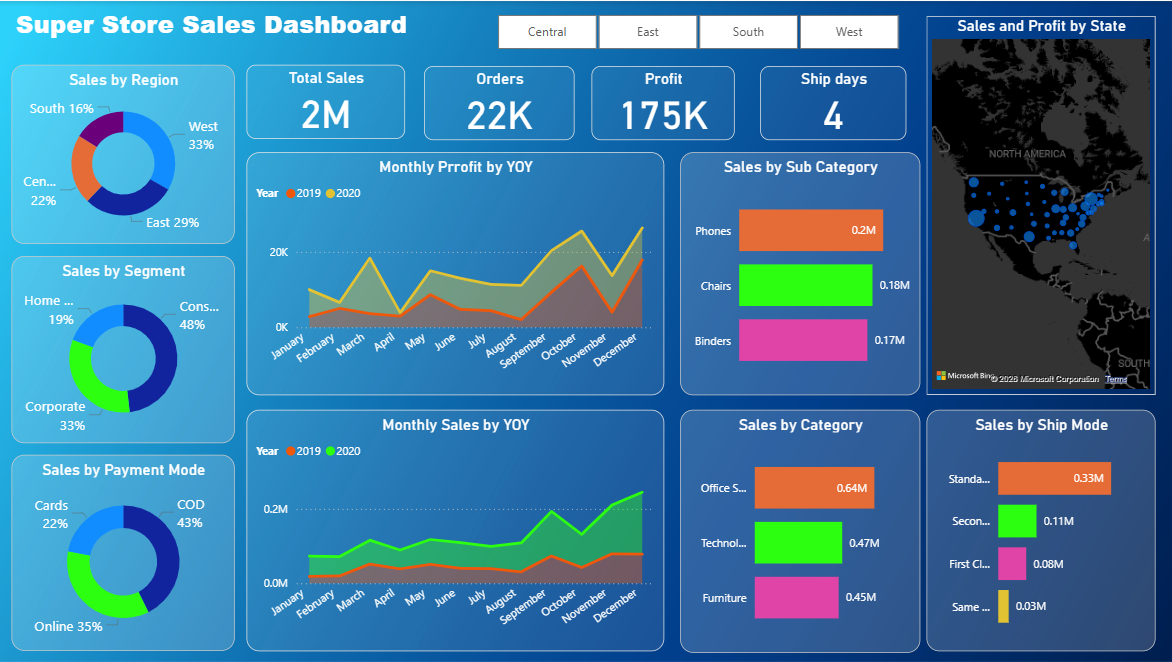

The dashboard page shown, as its layout file describes it:
{"tool":"powerbi","page":{"name":"Page 1","canvas":[1280,720],"ordinal":0},"visuals":[{"type":"clusteredBarChart","title":" Sales by Category","fields":{"Category":["SuperStore_Sales_Dataset.Category"],"Y":["Sum(SuperStore_Sales_Dataset.Sales)"]},"box":[742.9,445.4,261.3,264.6],"z":0},{"type":"clusteredBarChart","title":" Sales by Sub Category","fields":{"Category":["SuperStore_Sales_Dataset.Sub-Category"],"Y":["Sum(SuperStore_Sales_Dataset.Sales)"]},"box":[742.9,164.4,261.3,264.6],"z":1},{"type":"clusteredBarChart","title":" Sales by Ship Mode","fields":{"Category":["SuperStore_Sales_Dataset.Ship Mode"],"Y":["Sum(SuperStore_Sales_Dataset.Sales)"]},"box":[1010.8,445.4,249.8,263],"z":2},{"type":"stackedAreaChart","title":" Monthly Sales by YOY","fields":{"Category":["SuperStore_Sales_Dataset.Order Date.Variation.Date Hierarchy.Month","SuperStore_Sales_Dataset.Order Date.Variation.Date Hierarchy.Day"],"Y":["Sum(SuperStore_Sales_Dataset.Sales)"],"Series":["SuperStore_Sales_Dataset.Order Date.Variation.Date Hierarchy.Year"]},"box":[269.5,445.4,455.3,263],"z":3},{"type":"stackedAreaChart","title":" Monthly Prrofit by YOY","fields":{"Category":["SuperStore_Sales_Dataset.Order Date.Variation.Date Hierarchy.Month","SuperStore_Sales_Dataset.Order Date.Variation.Date Hierarchy.Day"],"Series":["SuperStore_Sales_Dataset.Order Date.Variation.Date Hierarchy.Year"],"Y":["Sum(SuperStore_Sales_Dataset.Profit)"]},"box":[269.5,164.4,455.3,264.6],"z":4},{"type":"map","title":"Sales and Profit by State","fields":{"Category":["SuperStore_Sales_Dataset.State"],"Size":["Sum(SuperStore_Sales_Dataset.Sales)"]},"box":[1010.8,16.4,249.8,412.5],"z":5},{"type":"donutChart","title":" Sales by Segment","fields":{"Category":["SuperStore_Sales_Dataset.Segment"],"Y":["Sum(SuperStore_Sales_Dataset.Sales)"]},"box":[13.1,277.8,243.2,203.8],"z":6},{"type":"donutChart","title":"Sales by Payment Mode","fields":{"Category":["SuperStore_Sales_Dataset.Payment Mode"],"Y":["Sum(SuperStore_Sales_Dataset.Sales)"]},"box":[13.1,494.7,243.2,213.7],"z":7},{"type":"slicer","fields":{"Values":["SuperStore_Sales_Dataset.Region"]},"box":[517.7,8.2,486.5,51],"z":8},{"type":"textbox","box":[13.1,0,476.6,67.4],"z":9},{"type":"card","title":"Total Sales","fields":{"Values":["Sum(SuperStore_Sales_Dataset.Sales)"]},"box":[269.5,69,172.6,80.5],"z":10},{"type":"card","title":"Orders","fields":{"Values":["Sum(SuperStore_Sales_Dataset.Quantity)"]},"box":[463.5,70.7,164.4,80.5],"z":11},{"type":"card","title":"Profit","fields":{"Values":["Sum(SuperStore_Sales_Dataset.Profit)"]},"box":[645.9,70.7,156.1,80.5],"z":12},{"type":"card","title":"Ship days","fields":{"Values":["Avg(SuperStore_Sales_Dataset.Avarageorder)"]},"box":[830,70.7,159.4,80.5],"z":13},{"type":"donutChart","title":"Sales by Region","fields":{"Category":["SuperStore_Sales_Dataset.Region"],"Y":["Sum(SuperStore_Sales_Dataset.Sales)"]},"box":[13.1,69,243.2,195.6],"z":14}]}

Visuals, with their boxes in screenshot pixels (x1, y1, x2, y2), scaled from the page's 1280x720 canvas onto the 1172x662 screenshot:
" Sales by Category" clusteredBarChart: {"left": 680, "top": 410, "right": 919, "bottom": 653}
" Sales by Sub Category" clusteredBarChart: {"left": 680, "top": 151, "right": 919, "bottom": 394}
" Sales by Ship Mode" clusteredBarChart: {"left": 926, "top": 410, "right": 1154, "bottom": 651}
" Monthly Sales by YOY" stackedAreaChart: {"left": 247, "top": 410, "right": 664, "bottom": 651}
" Monthly Prrofit by YOY" stackedAreaChart: {"left": 247, "top": 151, "right": 664, "bottom": 394}
"Sales and Profit by State" map: {"left": 926, "top": 15, "right": 1154, "bottom": 394}
" Sales by Segment" donutChart: {"left": 12, "top": 255, "right": 235, "bottom": 443}
"Sales by Payment Mode" donutChart: {"left": 12, "top": 455, "right": 235, "bottom": 651}
slicer - SuperStore_Sales_Dataset.Region: {"left": 474, "top": 8, "right": 919, "bottom": 54}
textbox: {"left": 12, "top": 0, "right": 448, "bottom": 62}
"Total Sales" card: {"left": 247, "top": 63, "right": 405, "bottom": 137}
"Orders" card: {"left": 424, "top": 65, "right": 575, "bottom": 139}
"Profit" card: {"left": 591, "top": 65, "right": 734, "bottom": 139}
"Ship days" card: {"left": 760, "top": 65, "right": 906, "bottom": 139}
"Sales by Region" donutChart: {"left": 12, "top": 63, "right": 235, "bottom": 243}
